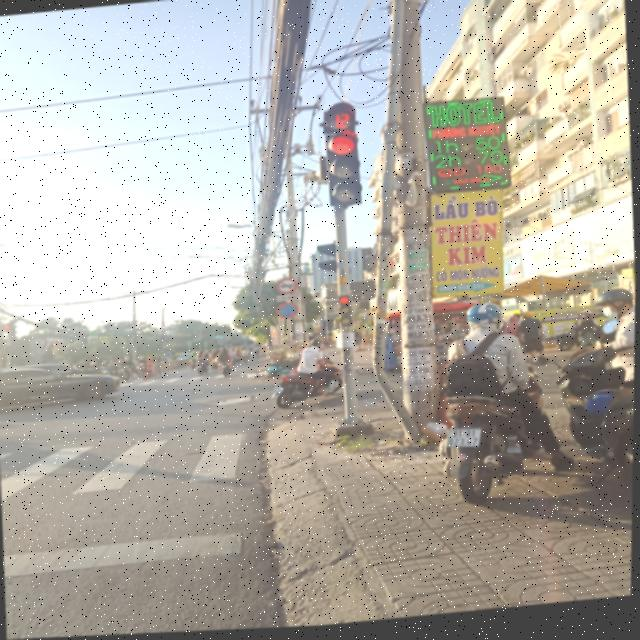Red: (319, 131, 370, 211), (334, 294, 357, 334)
